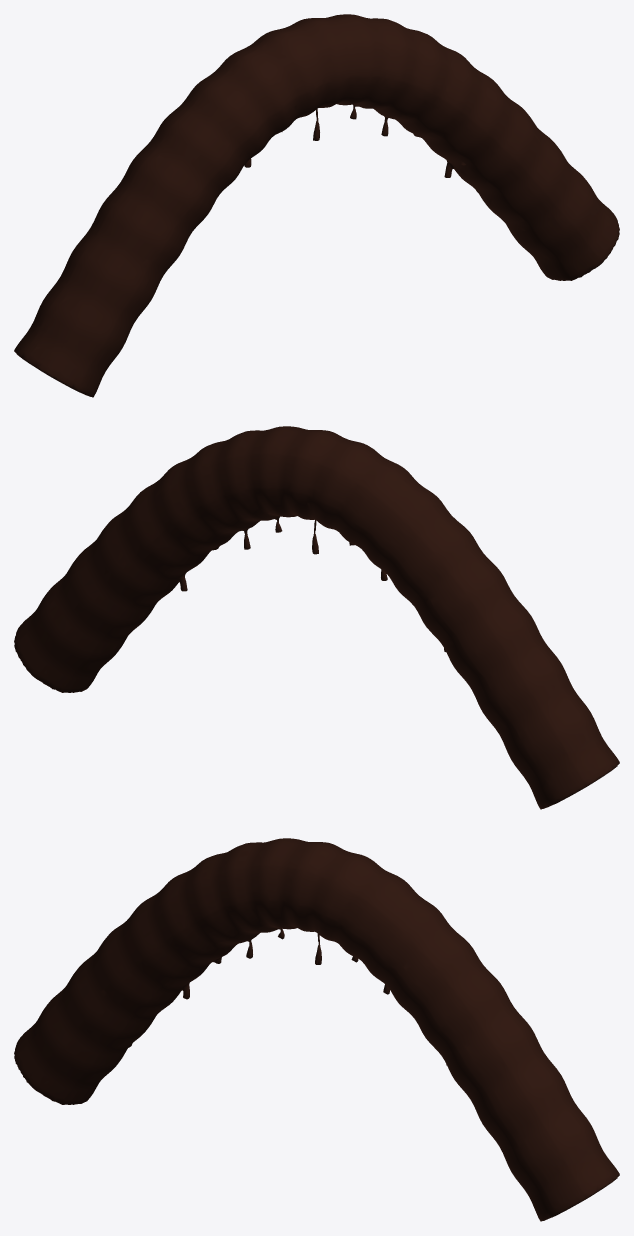
The model's file is recipe-cacao-arch.glb.
The picture shows the model from 3 angles, top to bottom: view 1: azimuth 30°, elevation 25°; view 2: azimuth 150°, elevation 25°; view 3: azimuth 330°, elevation 25°; orthographic projection.
Visible parts, largest first — view 1: Cacao torus arch open walkway; view 2: Cacao torus arch open walkway; view 3: Cacao torus arch open walkway.
Part boxes in pixels (x1,y1,x2,y2): Cacao torus arch open walkway: [14, 14, 619, 397]; Cacao torus arch open walkway: [14, 426, 619, 809]; Cacao torus arch open walkway: [14, 838, 619, 1221].
Size of the model in its own units: 15.05 by 7.59 by 2.05.
